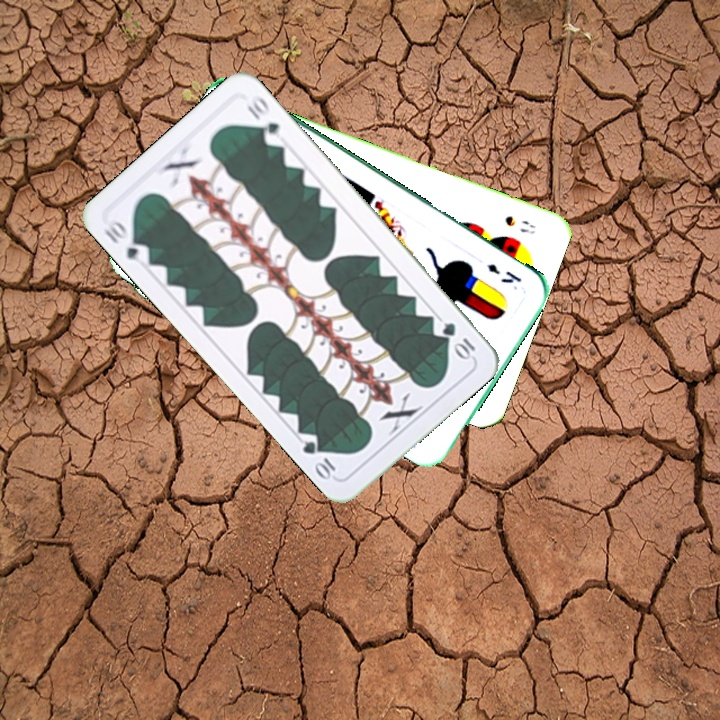EK: (483, 259, 524, 286)
G10: (100, 214, 153, 268), (438, 318, 478, 362)
S8: (501, 211, 538, 238)
